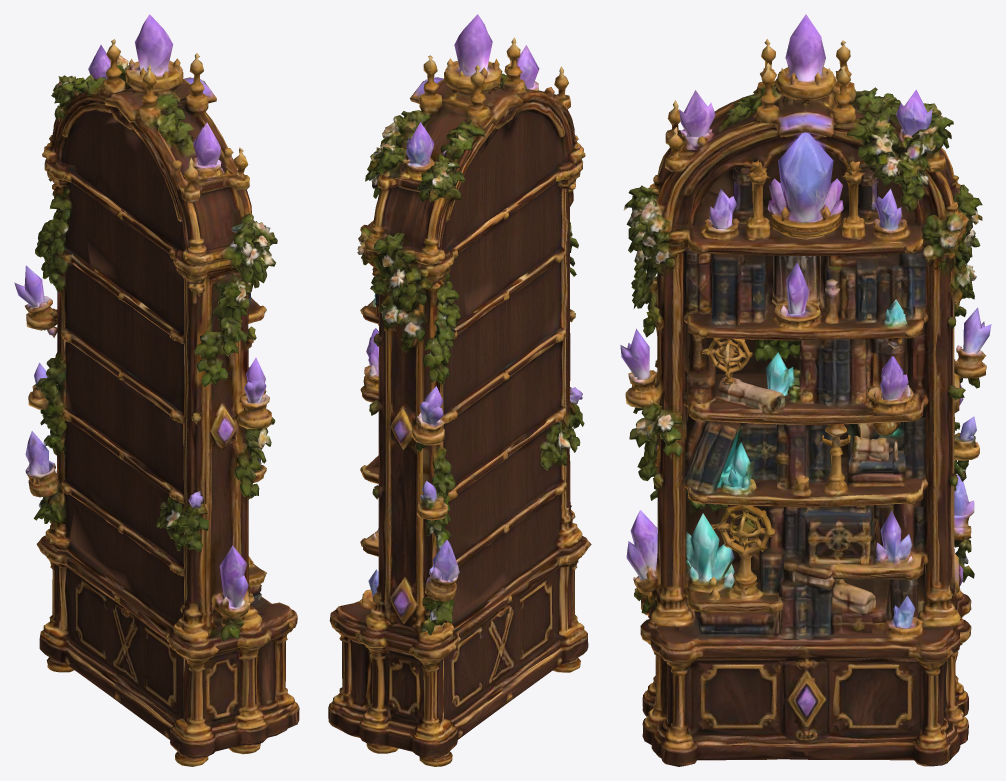
Rendered from prop_archive.glb.
3 views of the same model, side by side, from view 1: azimuth 30°, elevation 25°; view 2: azimuth 150°, elevation 25°; view 3: azimuth 270°, elevation 25° (orthographic). The views are drawn at different scales.
Visible parts, largest first — view 1: tripo_node_b2115369-fb46-463b-a921-c8a89c560660; view 2: tripo_node_b2115369-fb46-463b-a921-c8a89c560660; view 3: tripo_node_b2115369-fb46-463b-a921-c8a89c560660.
Part boxes in pixels (<box>): tripo_node_b2115369-fb46-463b-a921-c8a89c560660: <box>14,14,299,766</box>; tripo_node_b2115369-fb46-463b-a921-c8a89c560660: <box>328,14,591,766</box>; tripo_node_b2115369-fb46-463b-a921-c8a89c560660: <box>620,14,991,766</box>.
Size of the model in its own units: 0.2039 by 0.9795 by 0.4554.
1 material, 1 textured.
